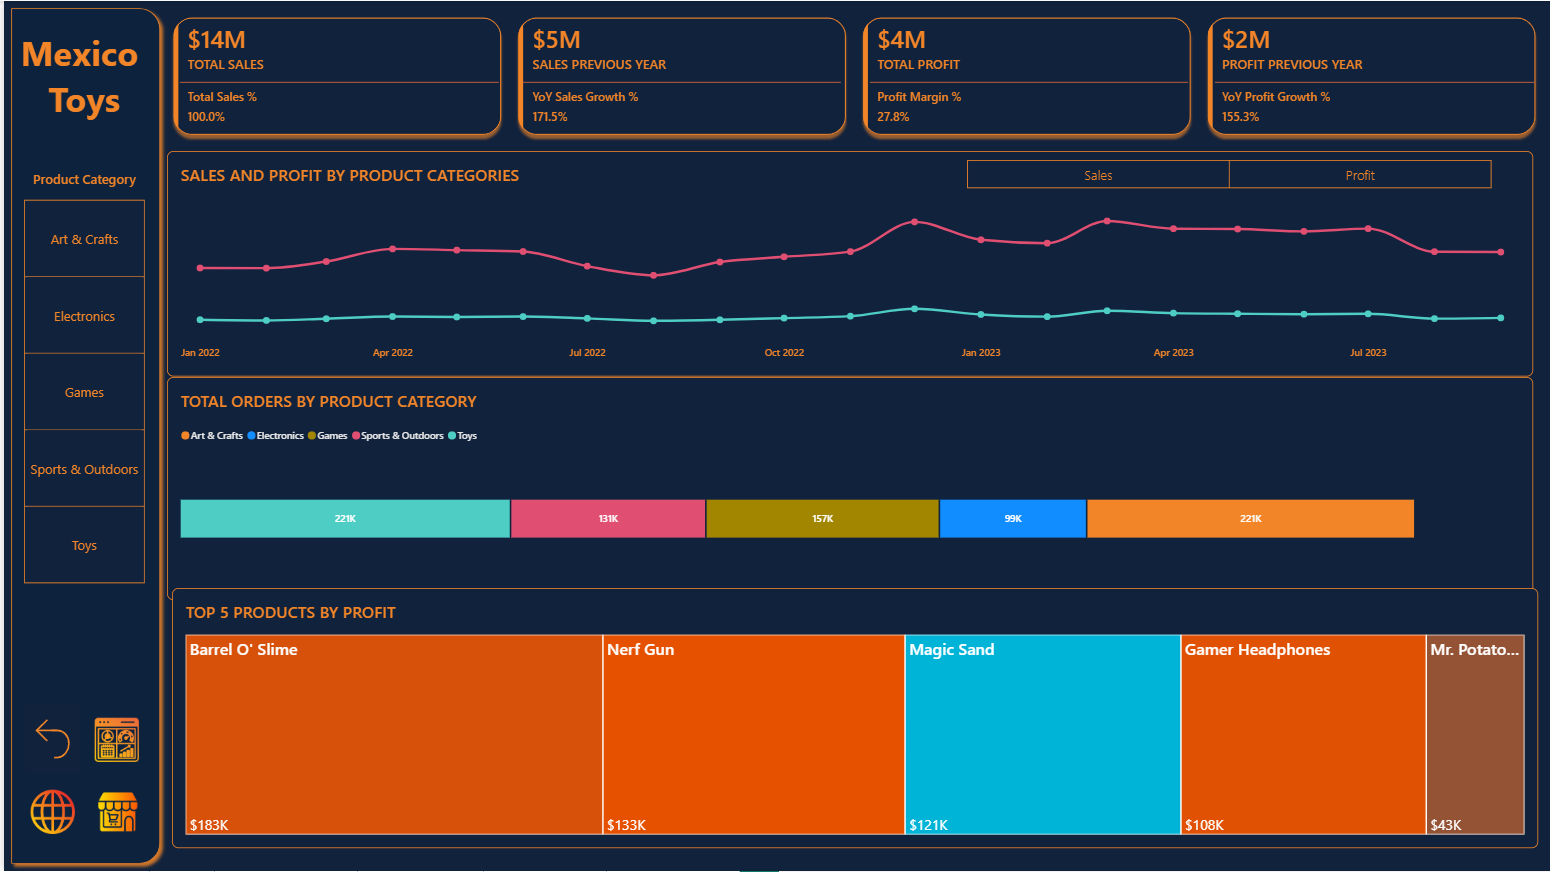

Layout of this report page (visuals, bound fields, positions):
{"tool":"powerbi","page":{"name":"Products Overview","canvas":[1920,1080],"ordinal":2},"visuals":[{"type":"shape","box":[0,0,202.9,1080],"z":0},{"type":"textbox","box":[17.1,34.2,164.6,133],"z":1000},{"type":"advancedSlicerVisual","title":"Product Category","fields":{"Values":["products.Product_Category"]},"box":[25,209.4,150.1,513.7],"z":2000},{"type":"cardVisual","fields":{"Data":["Measures Table.Total Sales","Measures Table.Sales PY","Measures Table.Gross Profit","Measures Table.Profit PLY"]},"box":[202.9,12.9,1707.1,162.9],"z":3000},{"type":"barChart","title":"TOTAL ORDERS BY PRODUCT CATEGORY","fields":{"Series":["products.Product_Category"],"Y":["Measures Table.Total Orders"]},"box":[202.8,466.2,1695.7,277.1],"z":4000},{"type":"lineChart","title":"SALES AND PROFIT BY PRODUCT CATEGORIES","fields":{"Category":["calendar.Start of month"],"Y":["Measures Table.Total Sales","Measures Table.Total Profit"]},"box":[202.9,185.7,1695.7,280],"z":5000},{"type":"treemap","title":"TOP 5 PRODUCTS BY PROFIT","fields":{"Group":["products.Product_Name"],"Values":["Measures Table.Total Profit"]},"box":[208.1,728.3,1695.7,322.9],"z":7000},{"type":"actionButton","title":"Filter reset Prod","box":[26.3,871.9,69,89],"z":8000},{"type":"shape","box":[218.3,93.9,395.6,13.2],"z":9000},{"type":"shape","box":[642.7,94.8,395.6,13.2],"z":10000},{"type":"shape","box":[1074.7,94.8,395.1,13.2],"z":11000},{"type":"shape","box":[1502.8,94.8,395.6,13.2],"z":12000},{"type":"image","box":[105.8,873.1,69,89],"z":12001},{"type":"image","box":[106.7,961.5,69,89],"z":12002},{"type":"image","box":[26.3,961.5,69,89],"z":12003},{"type":"advancedSlicerVisual","fields":{"Values":["Sales & Profit.Sales & Profit"]},"box":[1176.1,197.6,691.5,35.6],"z":12004}]}

Visuals, with their boxes in screenshot pixels (x1, y1, x2, y2), scaled from the page's 1920x1080 canvas onto the 1550x872 screenshot:
shape: [x1=0, y1=0, x2=164, y2=871]
textbox: [x1=14, y1=28, x2=147, y2=135]
"Product Category" advancedSlicerVisual: [x1=20, y1=169, x2=141, y2=584]
cardVisual - Measures Table.Total Sales x Measures Table.Sales PY: [x1=164, y1=10, x2=1542, y2=142]
"TOTAL ORDERS BY PRODUCT CATEGORY" barChart: [x1=164, y1=376, x2=1533, y2=600]
"SALES AND PROFIT BY PRODUCT CATEGORIES" lineChart: [x1=164, y1=150, x2=1533, y2=376]
"TOP 5 PRODUCTS BY PROFIT" treemap: [x1=168, y1=588, x2=1537, y2=849]
"Filter reset Prod" actionButton: [x1=21, y1=704, x2=77, y2=776]
shape: [x1=176, y1=76, x2=496, y2=86]
shape: [x1=519, y1=77, x2=838, y2=87]
shape: [x1=868, y1=77, x2=1187, y2=87]
shape: [x1=1213, y1=77, x2=1533, y2=87]
image: [x1=85, y1=705, x2=141, y2=777]
image: [x1=86, y1=776, x2=142, y2=848]
image: [x1=21, y1=776, x2=77, y2=848]
advancedSlicerVisual - Sales & Profit.Sales & Profit: [x1=949, y1=160, x2=1508, y2=188]
